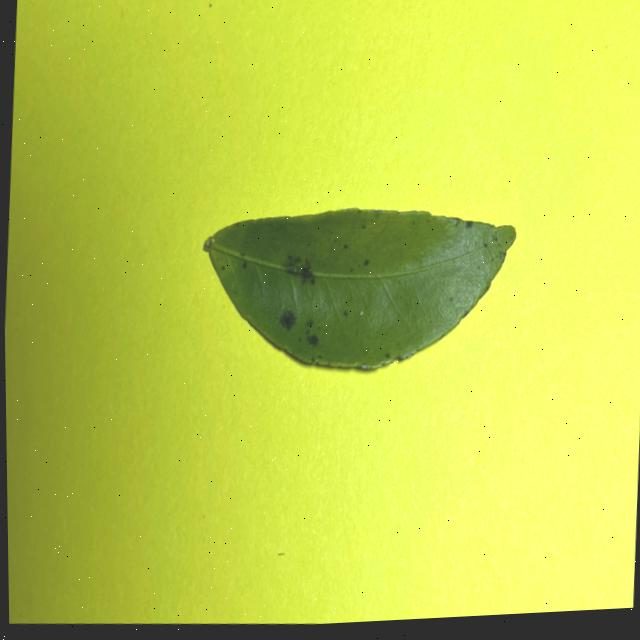sooty_mold: (202, 209, 515, 368)
